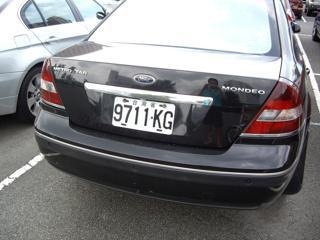plate: (112, 95, 175, 136)
